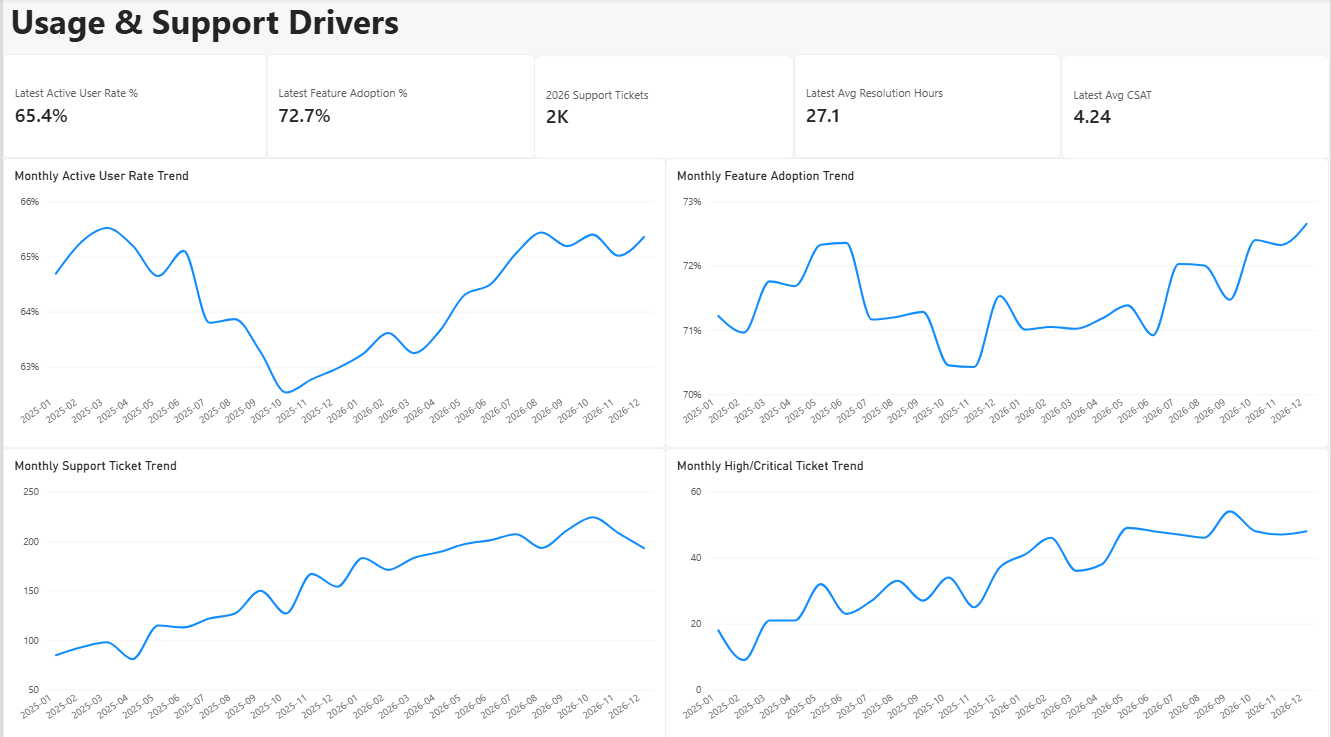

The dashboard page shown, as its layout file describes it:
{"tool":"powerbi","page":{"name":"Usage & Support Drivers","canvas":[1920,1080],"ordinal":4},"visuals":[{"type":"textbox","box":[10,0,868,68],"z":0},{"type":"cardVisual","fields":{"Data":["Monthly Usage.Latest Active User Rate %"]},"box":[0,82,382,150],"z":1000},{"type":"cardVisual","fields":{"Data":["Monthly Usage.2026 Support Tickets"]},"box":[770,84,376,150],"z":2000},{"type":"cardVisual","fields":{"Data":["Monthly Usage.Latest Feature Adoption %"]},"box":[382,82,388,150],"z":3000},{"type":"lineChart","title":"Monthly Active User Rate Trend","fields":{"Category":["DimMonth.YearMonth"],"Y":["Monthly Usage.Monthly Active User Rate %"]},"box":[0,232,960,420],"z":4000},{"type":"lineChart","title":"Monthly Feature Adoption Trend","fields":{"Category":["DimMonth.YearMonth"],"Y":["Monthly Usage.Monthly Feature Adoption %"]},"box":[960,232,960,420],"z":5000},{"type":"lineChart","title":"Monthly Support Ticket Trend","fields":{"Category":["DimMonth.YearMonth"],"Y":["Monthly Support.Monthly Support Tickets"]},"box":[0,652,960,428],"z":6000},{"type":"lineChart","title":"Monthly High/Critical Ticket Trend","fields":{"Category":["DimMonth.YearMonth"],"Y":["Monthly Support.Monthly High Critical Tickets"]},"box":[960,652,960,428],"z":7000},{"type":"cardVisual","fields":{"Data":["Monthly Support.Latest Avg Resolution Hours"]},"box":[1146,82,386,150],"z":8000},{"type":"cardVisual","fields":{"Data":["Monthly Support.Latest Avg CSAT"]},"box":[1532,84,388,150],"z":9000}]}

Visuals, with their boxes in screenshot pixels (x1, y1, x2, y2), scaled from the page's 1920x1080 canvas onto the 1331x737 screenshot:
textbox: [7,0,609,46]
cardVisual - Monthly Usage.Latest Active User Rate %: [0,56,265,158]
cardVisual - Monthly Usage.2026 Support Tickets: [534,57,794,160]
cardVisual - Monthly Usage.Latest Feature Adoption %: [265,56,534,158]
"Monthly Active User Rate Trend" lineChart: [0,158,666,445]
"Monthly Feature Adoption Trend" lineChart: [666,158,1330,445]
"Monthly Support Ticket Trend" lineChart: [0,445,666,736]
"Monthly High/Critical Ticket Trend" lineChart: [666,445,1330,736]
cardVisual - Monthly Support.Latest Avg Resolution Hours: [794,56,1062,158]
cardVisual - Monthly Support.Latest Avg CSAT: [1062,57,1330,160]
